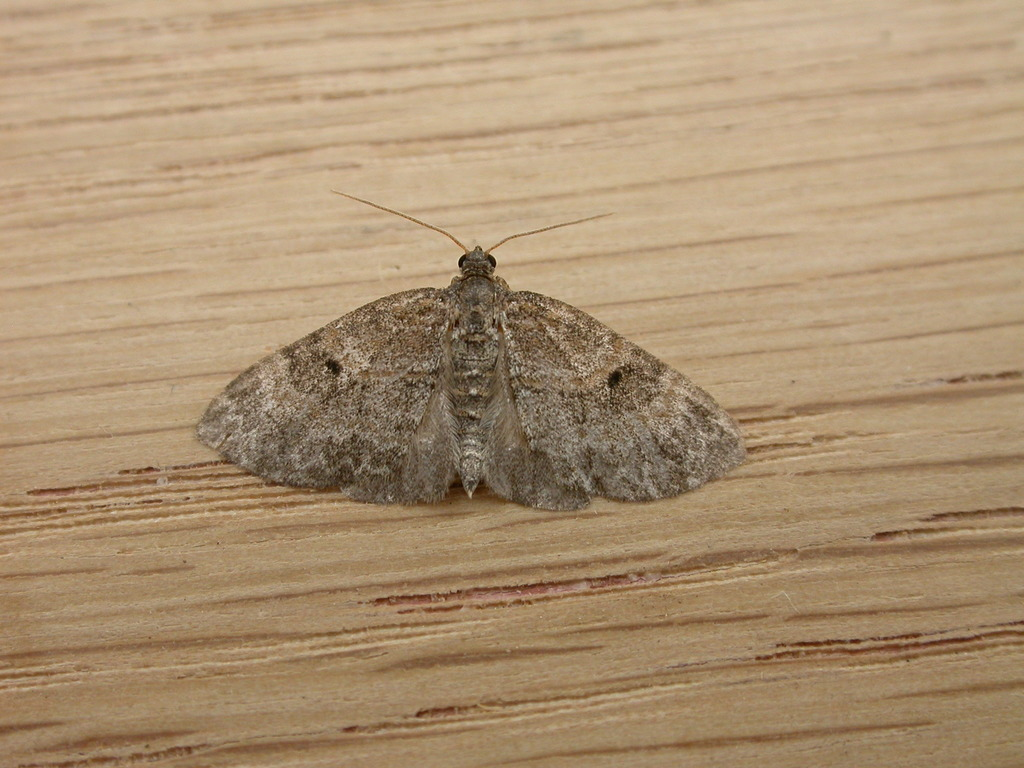Butterfly: (170, 206, 772, 549)
